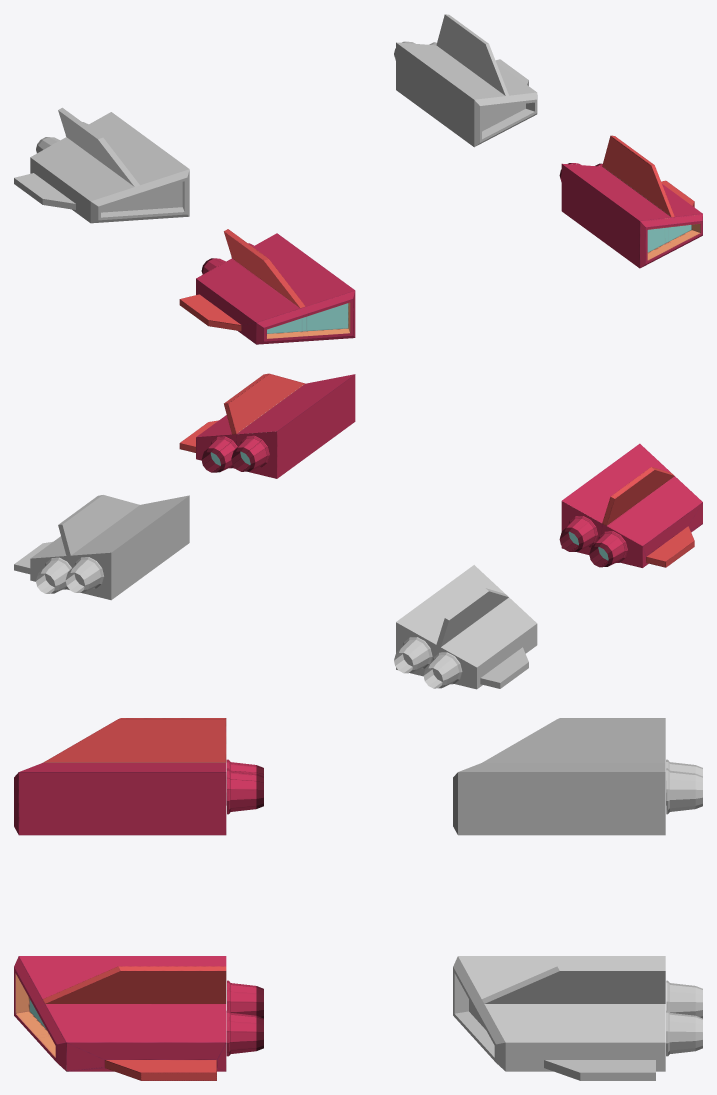
File: CarV7 WHeels.fbx
3 renders of one model, top to bottom at view 1: azimuth 30°, elevation 25°; view 2: azimuth 150°, elevation 25°; view 3: azimuth 270°, elevation 25°, orthographic. The views are drawn at different scales.
Parts seen in each view (by area): view 1: Cylinder.002, Cylinder.001; view 2: Cylinder.002, Cylinder.001; view 3: Cylinder.002, Cylinder.001.
Part boxes in pixels (x1,y1,x2,y2): Cylinder.002: [179, 135, 702, 344]; Cylinder.001: [14, 14, 537, 223]; Cylinder.002: [179, 373, 702, 567]; Cylinder.001: [14, 495, 537, 689]; Cylinder.002: [14, 718, 263, 1080]; Cylinder.001: [453, 718, 702, 1080].
Size of the model in its own units: 179 by 22.93 by 166.
